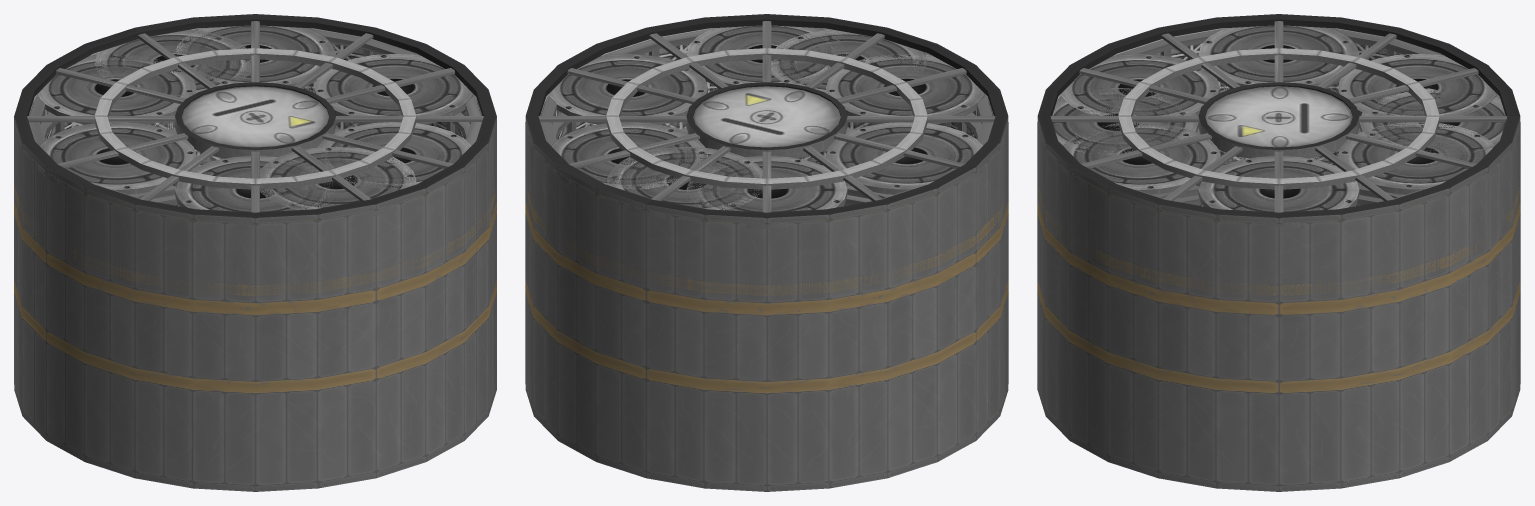
Rendered from InterstageAdapter375.FBX.
3 renders of one model, left to right at view 1: azimuth 30°, elevation 25°; view 2: azimuth 150°, elevation 25°; view 3: azimuth 270°, elevation 25°, orthographic.
Parts seen in each view (by area): view 1: ShroudTube (×2), LowerSupportRing011, ShroudTube001, ThrusterPlate, SingleEngineFrame001, ThrusterPlate011, ThrusterPlate003, ThrusterPlate010, ThrusterPlate002, ThrusterPlate006, ThrusterPlate005, ThrusterPlate012 (+11 smaller); view 2: ShroudTube (×2), ShroudTube001, LowerSupportRing011, ThrusterPlate, SingleEngineFrame001, ThrusterPlate011, ThrusterPlate005, ThrusterPlate012, ThrusterPlate002, ThrusterPlate003, ThrusterPlate008, ThrusterPlate006 (+11 smaller); view 3: ShroudTube (×2), ShroudTube001, LowerSupportRing011, ThrusterPlate, SingleEngineFrame001, ThrusterPlate002, ThrusterPlate011, ThrusterPlate005, ThrusterPlate006, ThrusterPlate003, ThrusterPlate010, ThrusterPlate009 (+11 smaller).
Boxes of the visible parts, x1=… form: ShroudTube (×2): x1=14, y1=28, x2=496, y2=486; LowerSupportRing011: x1=14, y1=14, x2=496, y2=223; ShroudTube001: x1=14, y1=123, x2=496, y2=296; ThrusterPlate: x1=175, y1=82, x2=335, y2=158; SingleEngineFrame001: x1=94, y1=48, x2=416, y2=189; ThrusterPlate011: x1=314, y1=54, x2=473, y2=124; ThrusterPlate003: x1=37, y1=54, x2=196, y2=124; ThrusterPlate010: x1=260, y1=146, x2=416, y2=218; ThrusterPlate002: x1=175, y1=25, x2=335, y2=86; ThrusterPlate006: x1=315, y1=122, x2=472, y2=189; ThrusterPlate005: x1=175, y1=156, x2=333, y2=229; ThrusterPlate012: x1=38, y1=122, x2=196, y2=189; ShroudTube (×2): x1=525, y1=28, x2=1008, y2=486; ShroudTube001: x1=525, y1=123, x2=1008, y2=296; LowerSupportRing011: x1=525, y1=14, x2=1008, y2=223; ThrusterPlate: x1=686, y1=82, x2=847, y2=158; SingleEngineFrame001: x1=606, y1=48, x2=927, y2=189; ThrusterPlate011: x1=549, y1=54, x2=707, y2=124; ThrusterPlate005: x1=826, y1=54, x2=984, y2=124; ThrusterPlate012: x1=826, y1=122, x2=982, y2=194; ThrusterPlate002: x1=550, y1=122, x2=707, y2=189; ThrusterPlate003: x1=686, y1=156, x2=847, y2=229; ThrusterPlate008: x1=606, y1=146, x2=762, y2=218; ThrusterPlate006: x1=686, y1=25, x2=847, y2=86; ShroudTube (×2): x1=1037, y1=28, x2=1520, y2=486; ShroudTube001: x1=1037, y1=129, x2=1520, y2=296; LowerSupportRing011: x1=1037, y1=14, x2=1520, y2=223; ThrusterPlate: x1=1198, y1=82, x2=1359, y2=158; SingleEngineFrame001: x1=1118, y1=48, x2=1439, y2=189; ThrusterPlate002: x1=1338, y1=122, x2=1496, y2=194; ThrusterPlate011: x1=1198, y1=156, x2=1359, y2=229; ThrusterPlate005: x1=1061, y1=53, x2=1219, y2=115; ThrusterPlate006: x1=1061, y1=122, x2=1219, y2=194; ThrusterPlate003: x1=1338, y1=53, x2=1496, y2=115; ThrusterPlate010: x1=1037, y1=88, x2=1198, y2=155; ThrusterPlate009: x1=1198, y1=26, x2=1358, y2=86.
Size of what is drawn, in the model's own units: 3.75 by 2.35 by 3.75.
